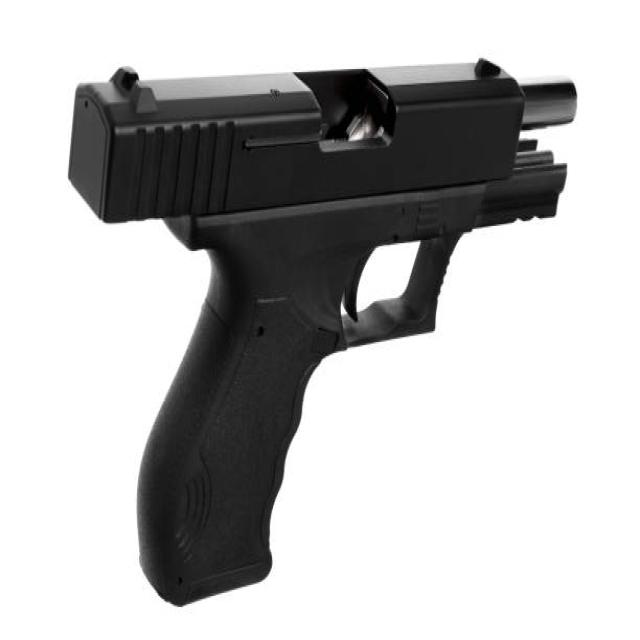pistol: (56, 42, 591, 612)
